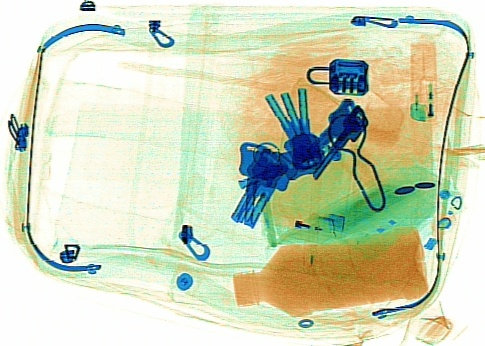lighter: (258, 193, 344, 237), (408, 40, 438, 122)
